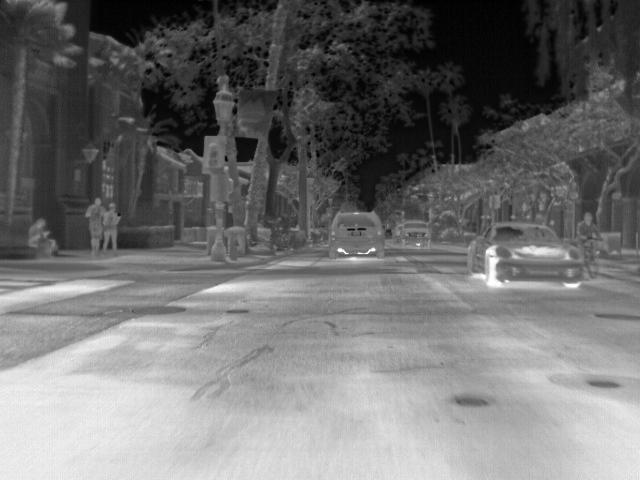car: (467, 221, 587, 286), (326, 209, 385, 258), (399, 220, 432, 250)
person: (82, 197, 108, 258), (573, 212, 602, 266), (28, 218, 58, 256), (104, 201, 122, 253)
